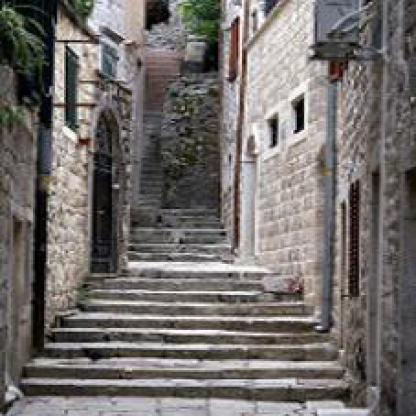stair_up: (53, 262, 332, 396)
